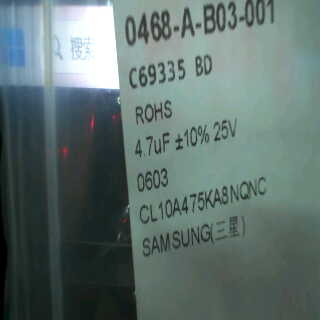4.7uF: (130, 129, 174, 160)
